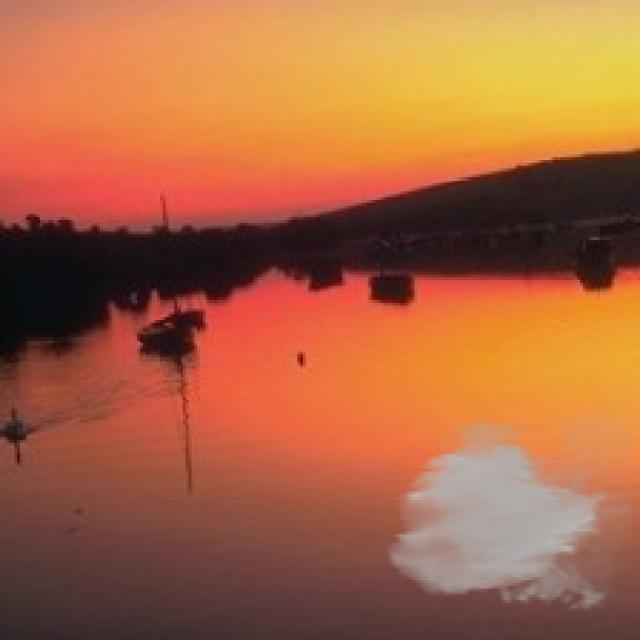smoke: (383, 414, 631, 617)
